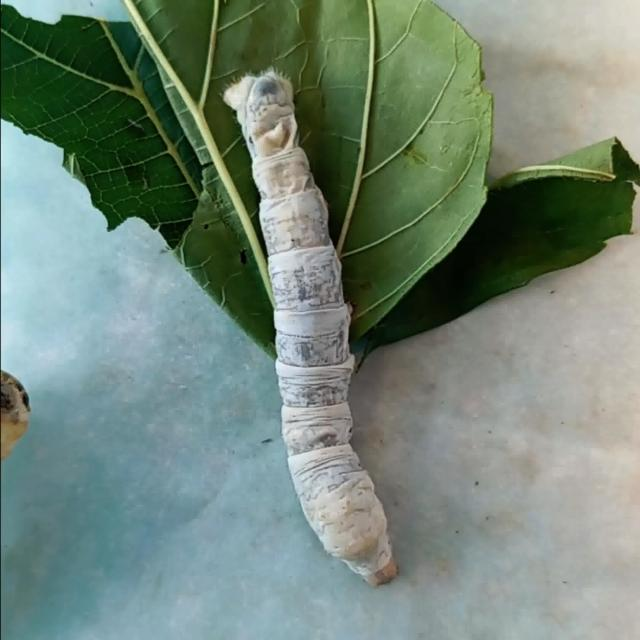Grasserie: (216, 50, 412, 596)
